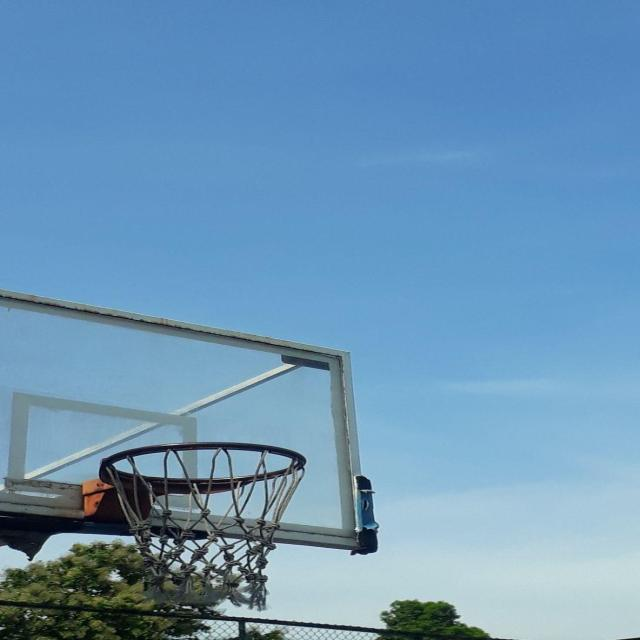hoop: (82, 426, 325, 614)
